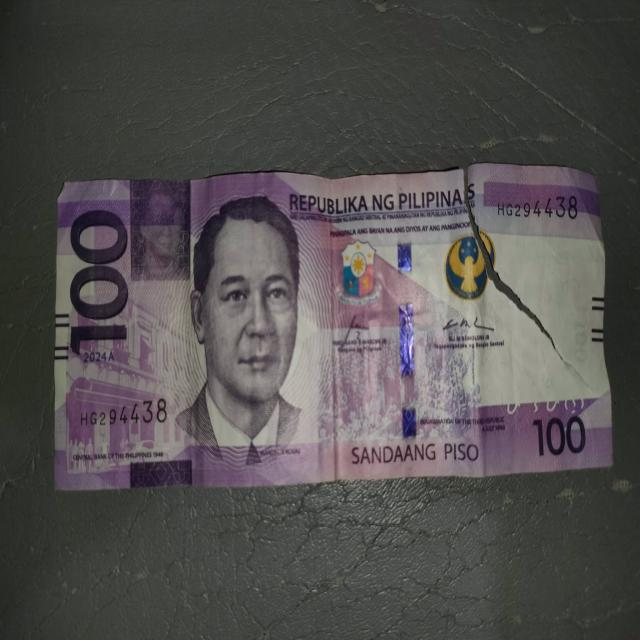broken: (51, 167, 611, 496)
torn: (440, 152, 604, 406)
